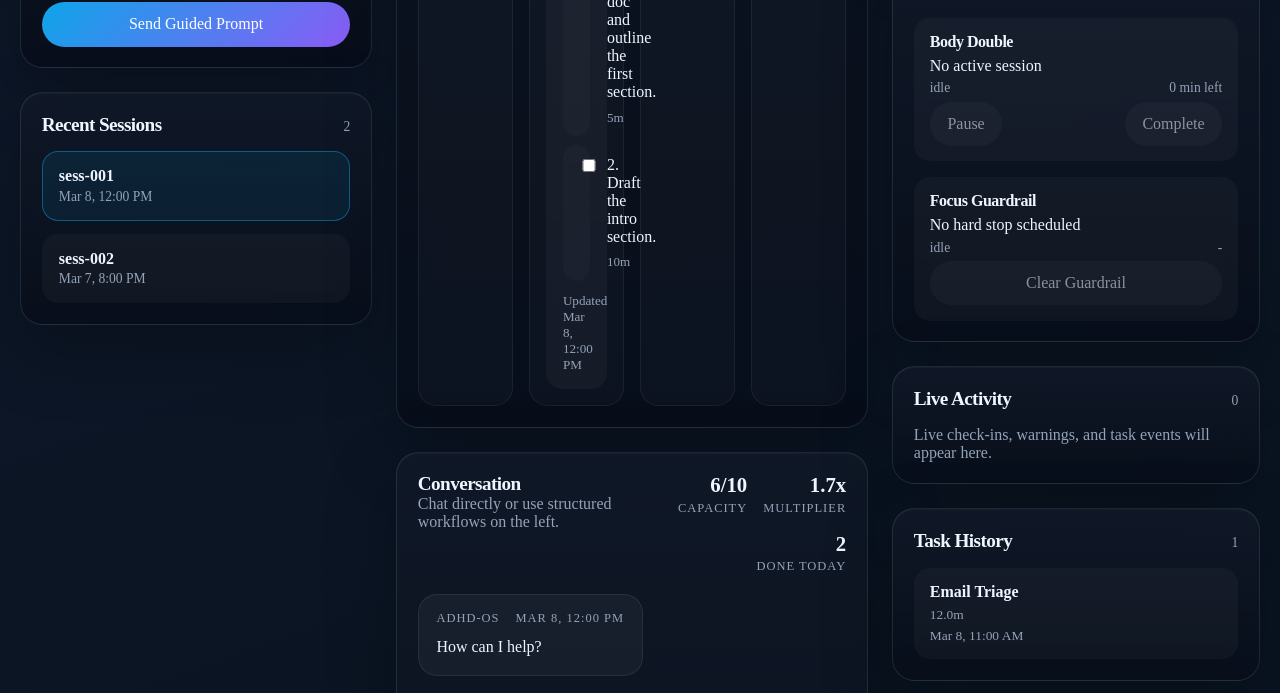
Test: App › switches sessions from the left rail
(page scrolled)
What coordinates should you click on to do the following:
click the button "sess-002 Mar 7, 8:00 PM"
I would click on:
 (86, 258)
Its box is [42,234,350,303].
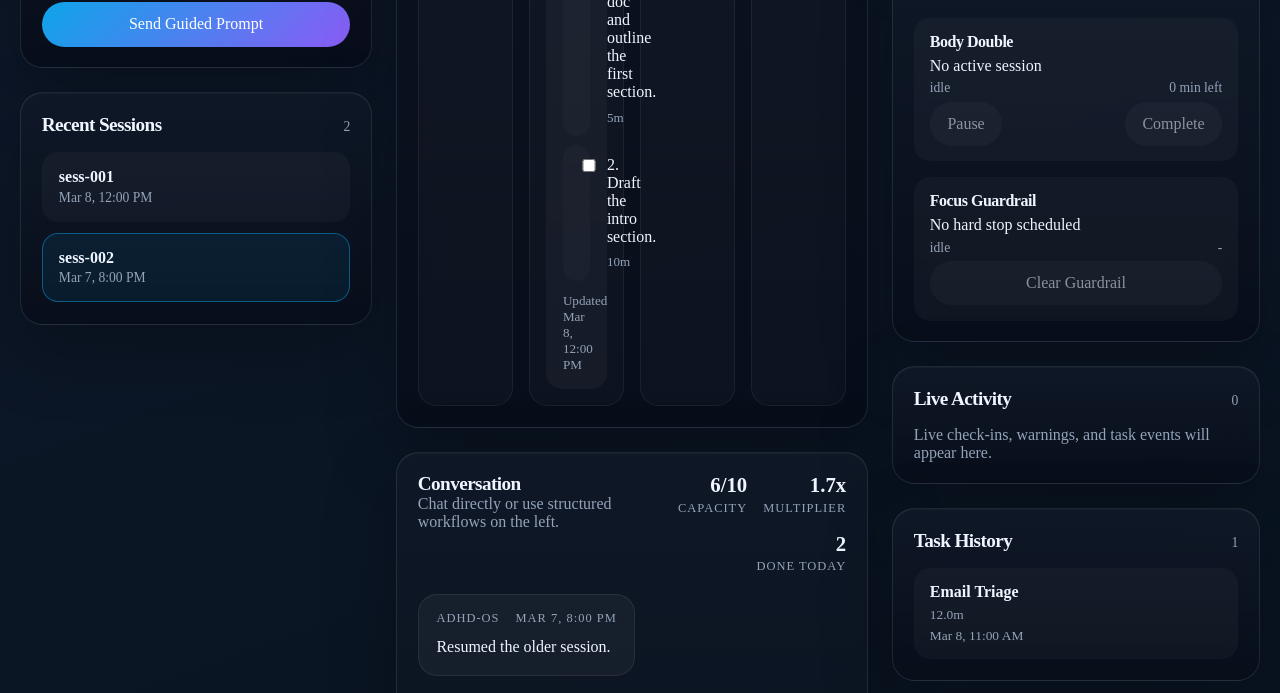
Now the text "Resumed the older session." is shown, box [436,634,617,660]
